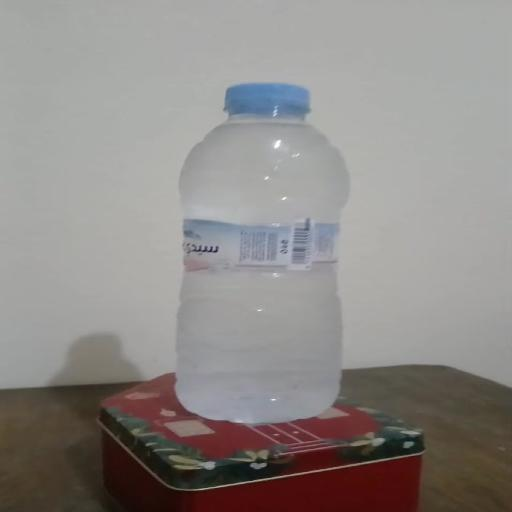bouteille conformite: (170, 65, 355, 427)
